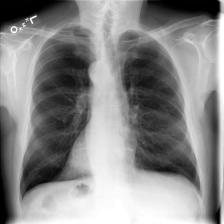normal: (16, 23, 205, 203)
